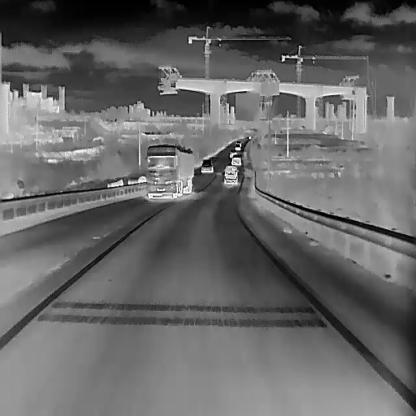car: (146, 143, 194, 198), (224, 165, 237, 184), (201, 158, 213, 172), (231, 153, 241, 165), (229, 149, 236, 157), (235, 142, 240, 150)
